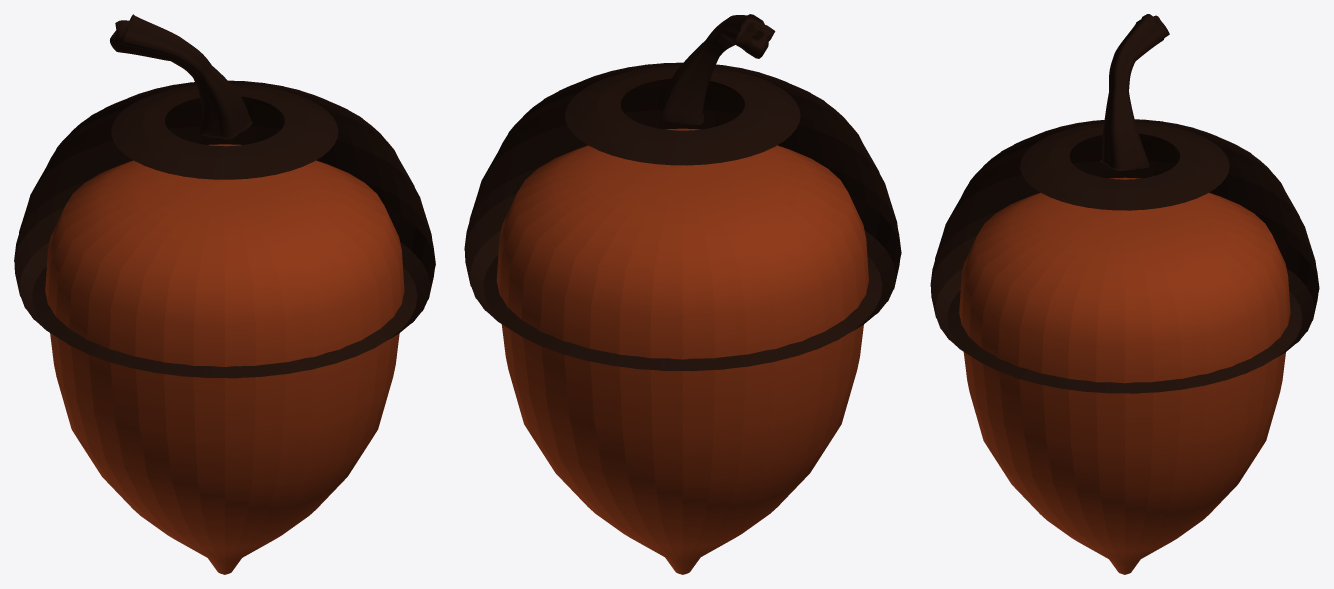
Rendered from 04.10.2025_acorn.obj.
3 renders of one model, left to right at view 1: azimuth 30°, elevation 25°; view 2: azimuth 150°, elevation 25°; view 3: azimuth 270°, elevation 25°, orthographic. The views are drawn at different scales.
Visible parts, largest first — view 1: Fruit, Cap, Stem; view 2: Fruit, Cap, Stem; view 3: Fruit, Cap, Stem.
Part boxes in pixels (bbox=[...]): Fruit: bbox=[45, 144, 404, 574]; Cap: bbox=[14, 80, 435, 378]; Stem: bbox=[110, 14, 252, 140]; Fruit: bbox=[496, 128, 868, 574]; Cap: bbox=[464, 62, 901, 371]; Stem: bbox=[659, 14, 775, 124]; Fruit: bbox=[959, 177, 1290, 574]; Cap: bbox=[930, 119, 1319, 393]; Stem: bbox=[1100, 14, 1169, 170].
Size of the model in its own units: 1.7 by 2.54 by 1.7.
